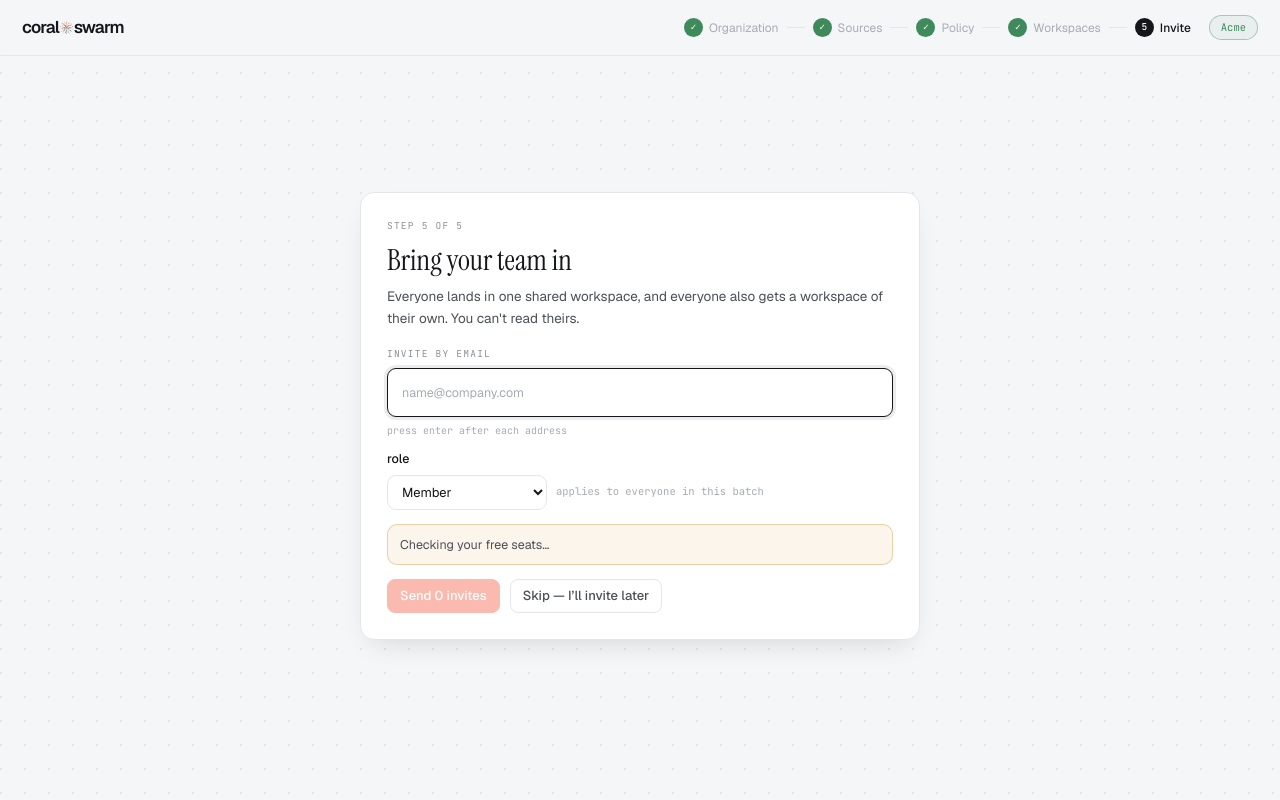
Test: onboarding invite step › stops the batch on a payment failure instead of trying every address
Type "a@acme.com" into the field labelled "invite by email".
click(640, 393); type("a@acme.com")  # box 400,380 -> 880,405
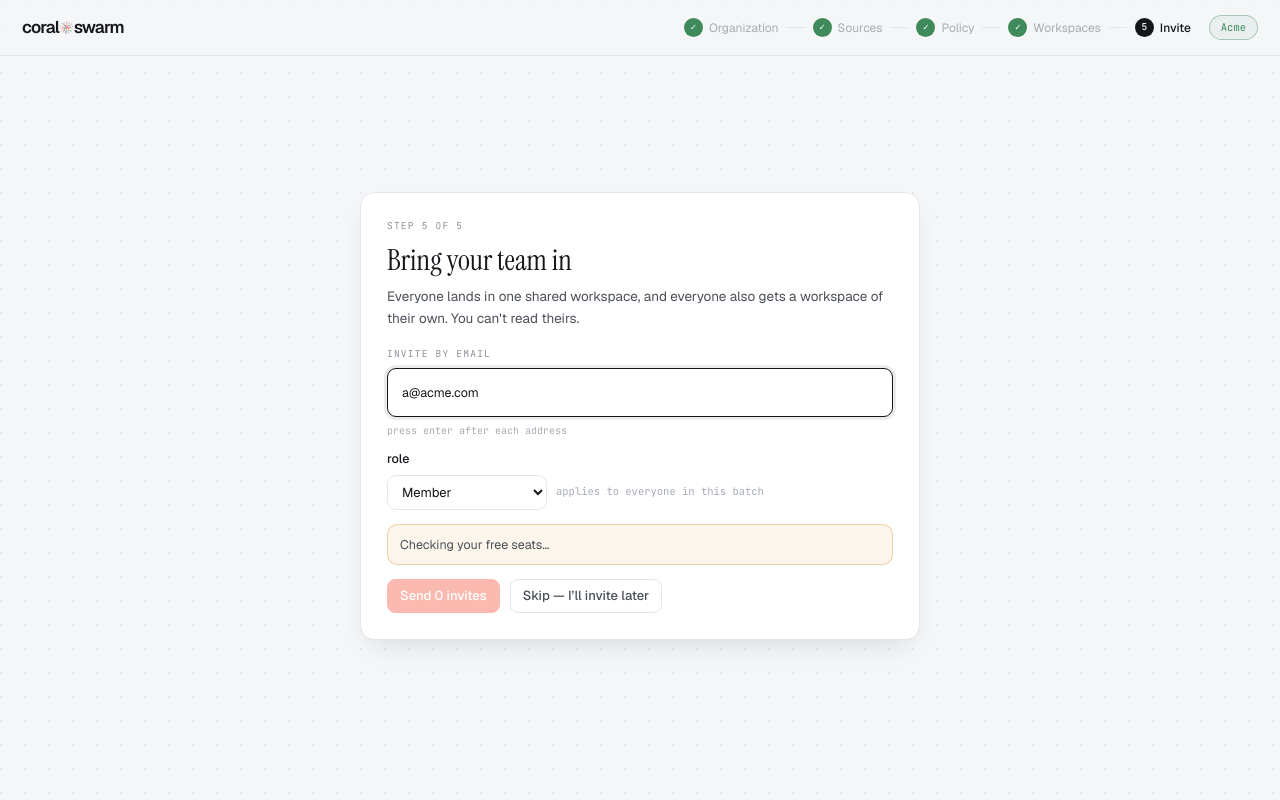
Press Enter in the field labelled "invite by email", box 400,380 -> 880,405
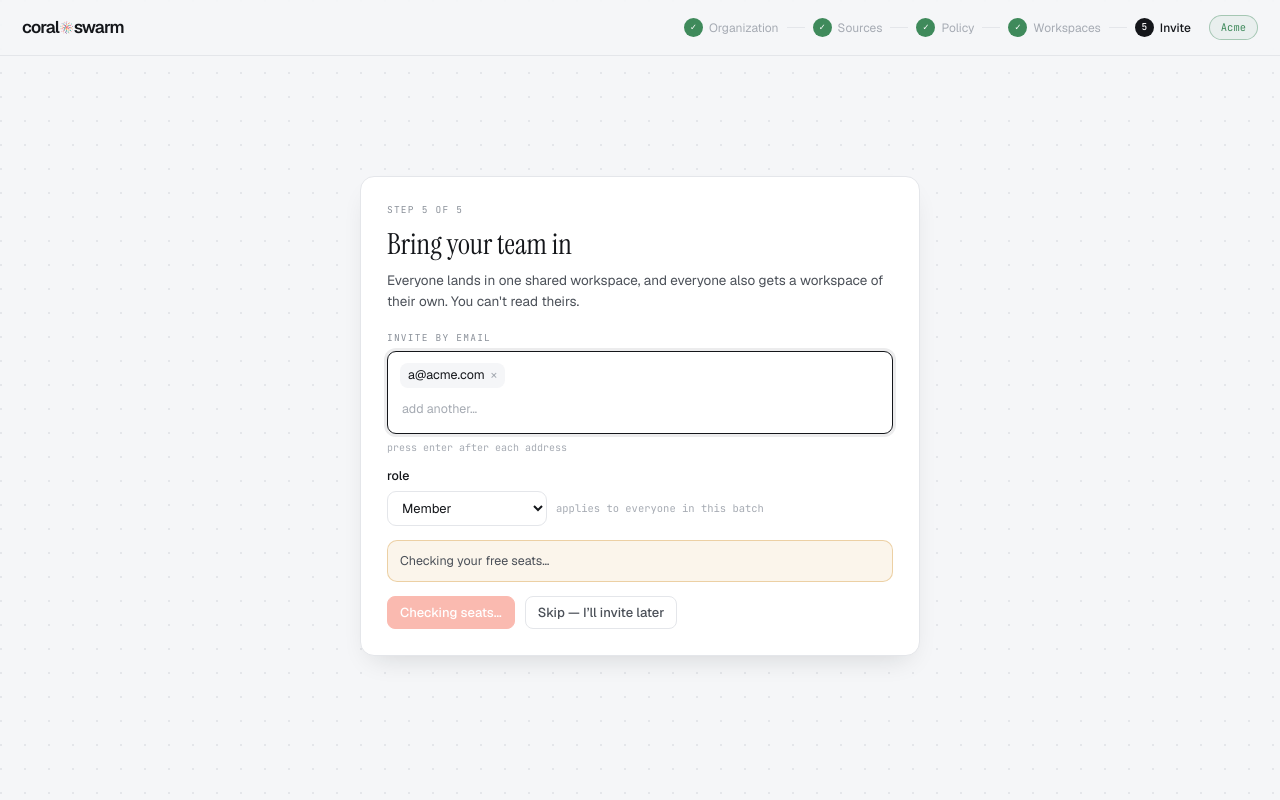
Type "b@acme.com" into the field labelled "invite by email".
click(640, 409); type("b@acme.com")  # box 400,397 -> 880,422
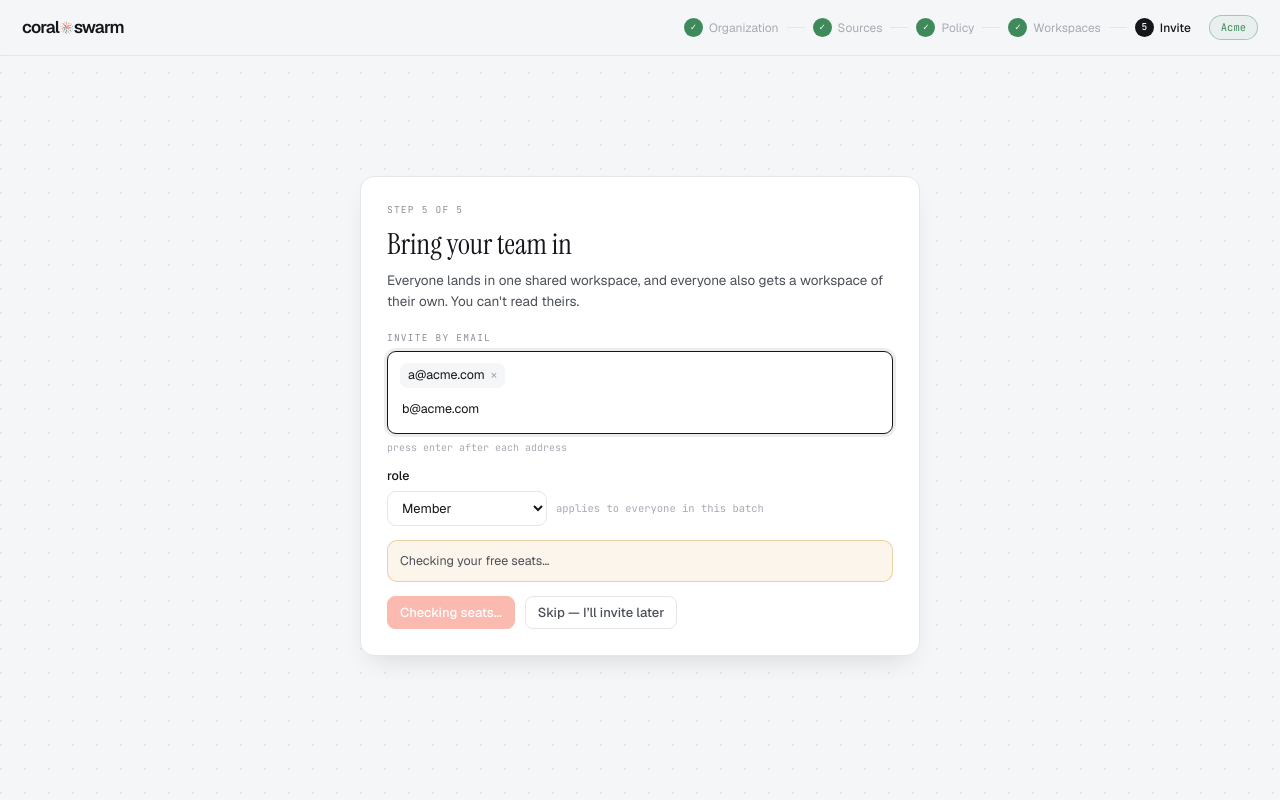
Press Enter in the field labelled "invite by email", box 400,397 -> 880,422
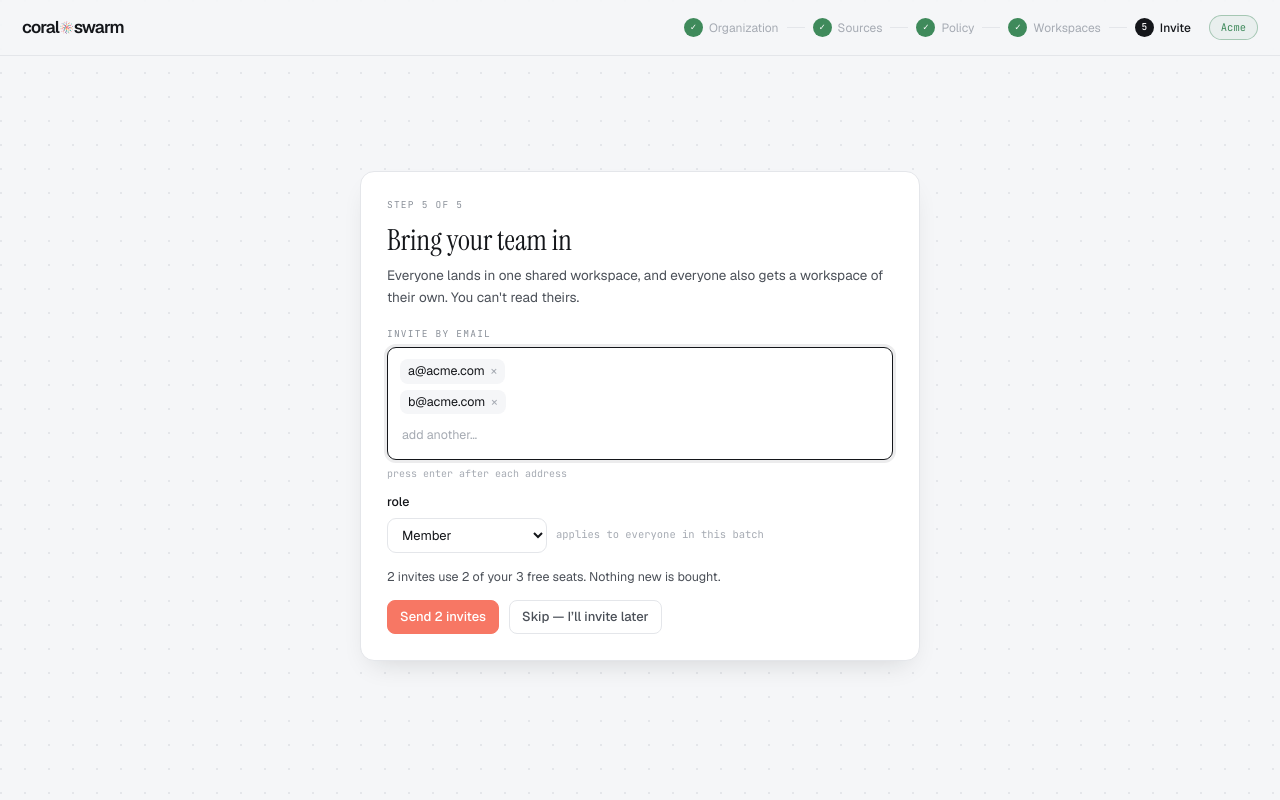
Click the button "Send 2 invites".
click(443, 617)  # box 387,600 -> 499,634
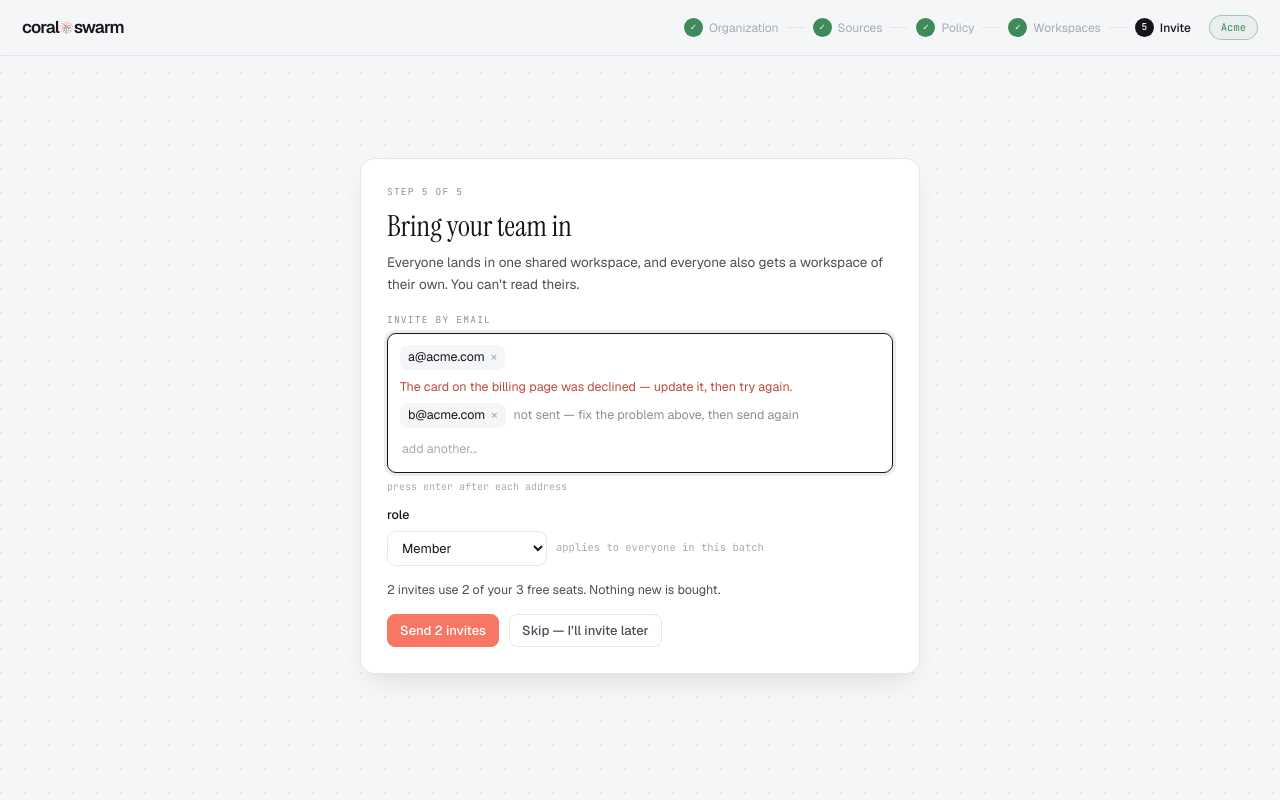
expect the text "declined" is shown: met, box 400,378 -> 792,395
expect the text "not sent — fix the problem above, then send again" is shown: met, box 514,406 -> 799,425
